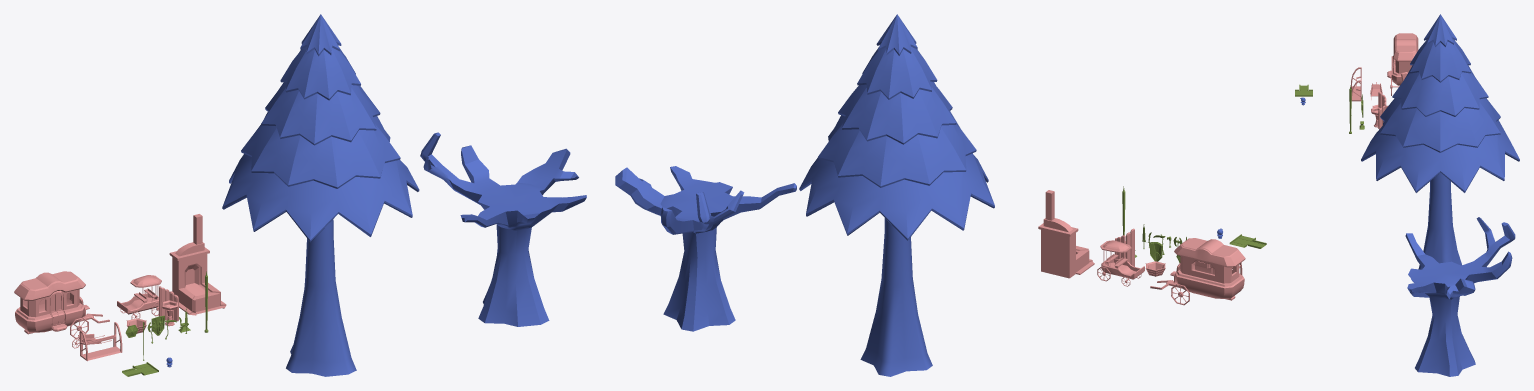
Rendered from Props_Castillo_Cofre_Arboles_UVs (1).fbx.
3 views of the same model, side by side, from view 1: azimuth 30°, elevation 25°; view 2: azimuth 150°, elevation 25°; view 3: azimuth 270°, elevation 25° (orthographic). The views are drawn at different scales.
Visible parts, largest first — view 1: Copa_UVs, Arbol_Pelon_UVs, Tronco_UVs, chimenea_UVs, Techo_UVs, Parte_Baja_UVs, carreta3_UVs, Parte_Alta_UVs, reak_UVs, antorcha_olimpoica_UVs; view 2: Copa_UVs, Arbol_Pelon_UVs, Tronco_UVs, chimenea_UVs, Techo_UVs, Parte_Baja_UVs, carreta3_UVs, Parte_Alta_UVs; view 3: Copa_UVs, Arbol_Pelon_UVs, Tronco_UVs, Techo_UVs, antorcha_olimpoica_UVs, reak_UVs, Parte_Baja_UVs.
Part boxes in pixels (box(x1,y1,x2,y2)): Copa_UVs: box(222, 14, 419, 242); Arbol_Pelon_UVs: box(420, 132, 586, 326); Tronco_UVs: box(286, 219, 356, 376); chimenea_UVs: box(169, 214, 226, 315); Techo_UVs: box(14, 271, 85, 300); Parte_Baja_UVs: box(15, 298, 84, 332); carreta3_UVs: box(117, 275, 161, 319); Parte_Alta_UVs: box(20, 289, 79, 317); reak_UVs: box(80, 322, 122, 361); antorcha_olimpoica_UVs: box(159, 286, 178, 326); Copa_UVs: box(799, 14, 994, 240); Arbol_Pelon_UVs: box(615, 166, 796, 331); Tronco_UVs: box(860, 218, 932, 376); chimenea_UVs: box(1038, 190, 1094, 278); Techo_UVs: box(1174, 238, 1245, 267); Parte_Baja_UVs: box(1175, 264, 1244, 298); carreta3_UVs: box(1097, 240, 1144, 286); Parte_Alta_UVs: box(1180, 256, 1239, 283); Copa_UVs: box(1361, 14, 1519, 192); Arbol_Pelon_UVs: box(1405, 217, 1515, 376); Tronco_UVs: box(1410, 173, 1461, 297); Techo_UVs: box(1393, 33, 1418, 61); antorcha_olimpoica_UVs: box(1371, 91, 1386, 129); reak_UVs: box(1351, 67, 1361, 101); Parte_Baja_UVs: box(1387, 55, 1402, 85).
Size of the model in its own units: 89.86 by 50.73 by 37.55.
